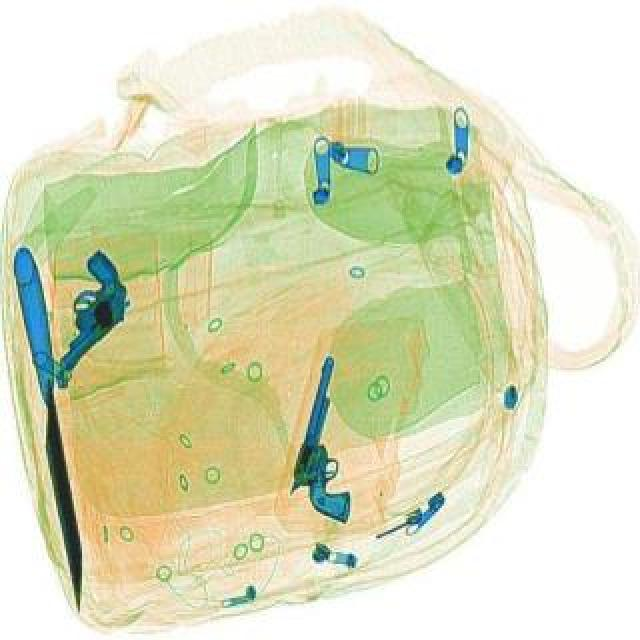gun: (278, 354, 390, 524), (14, 246, 150, 374)
knife: (10, 244, 92, 608)
